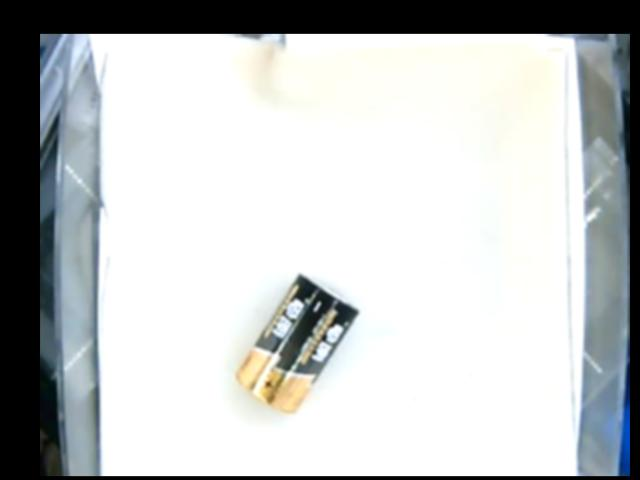Battery: (236, 272, 363, 415)
